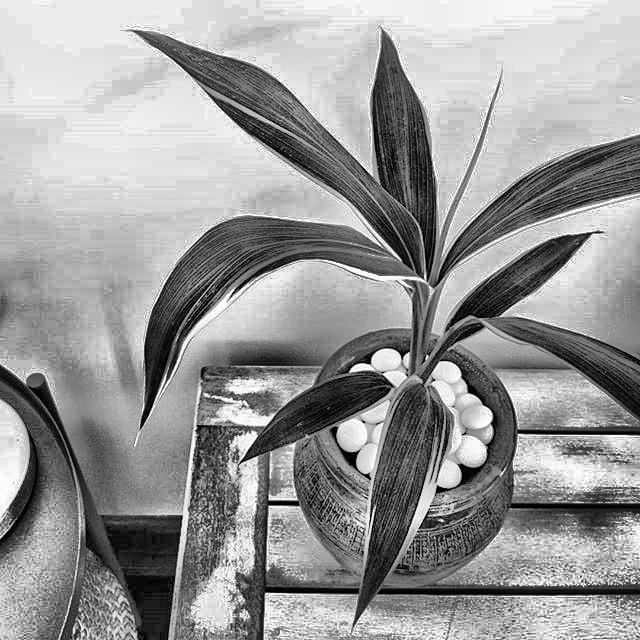plants: (132, 26, 639, 560)
